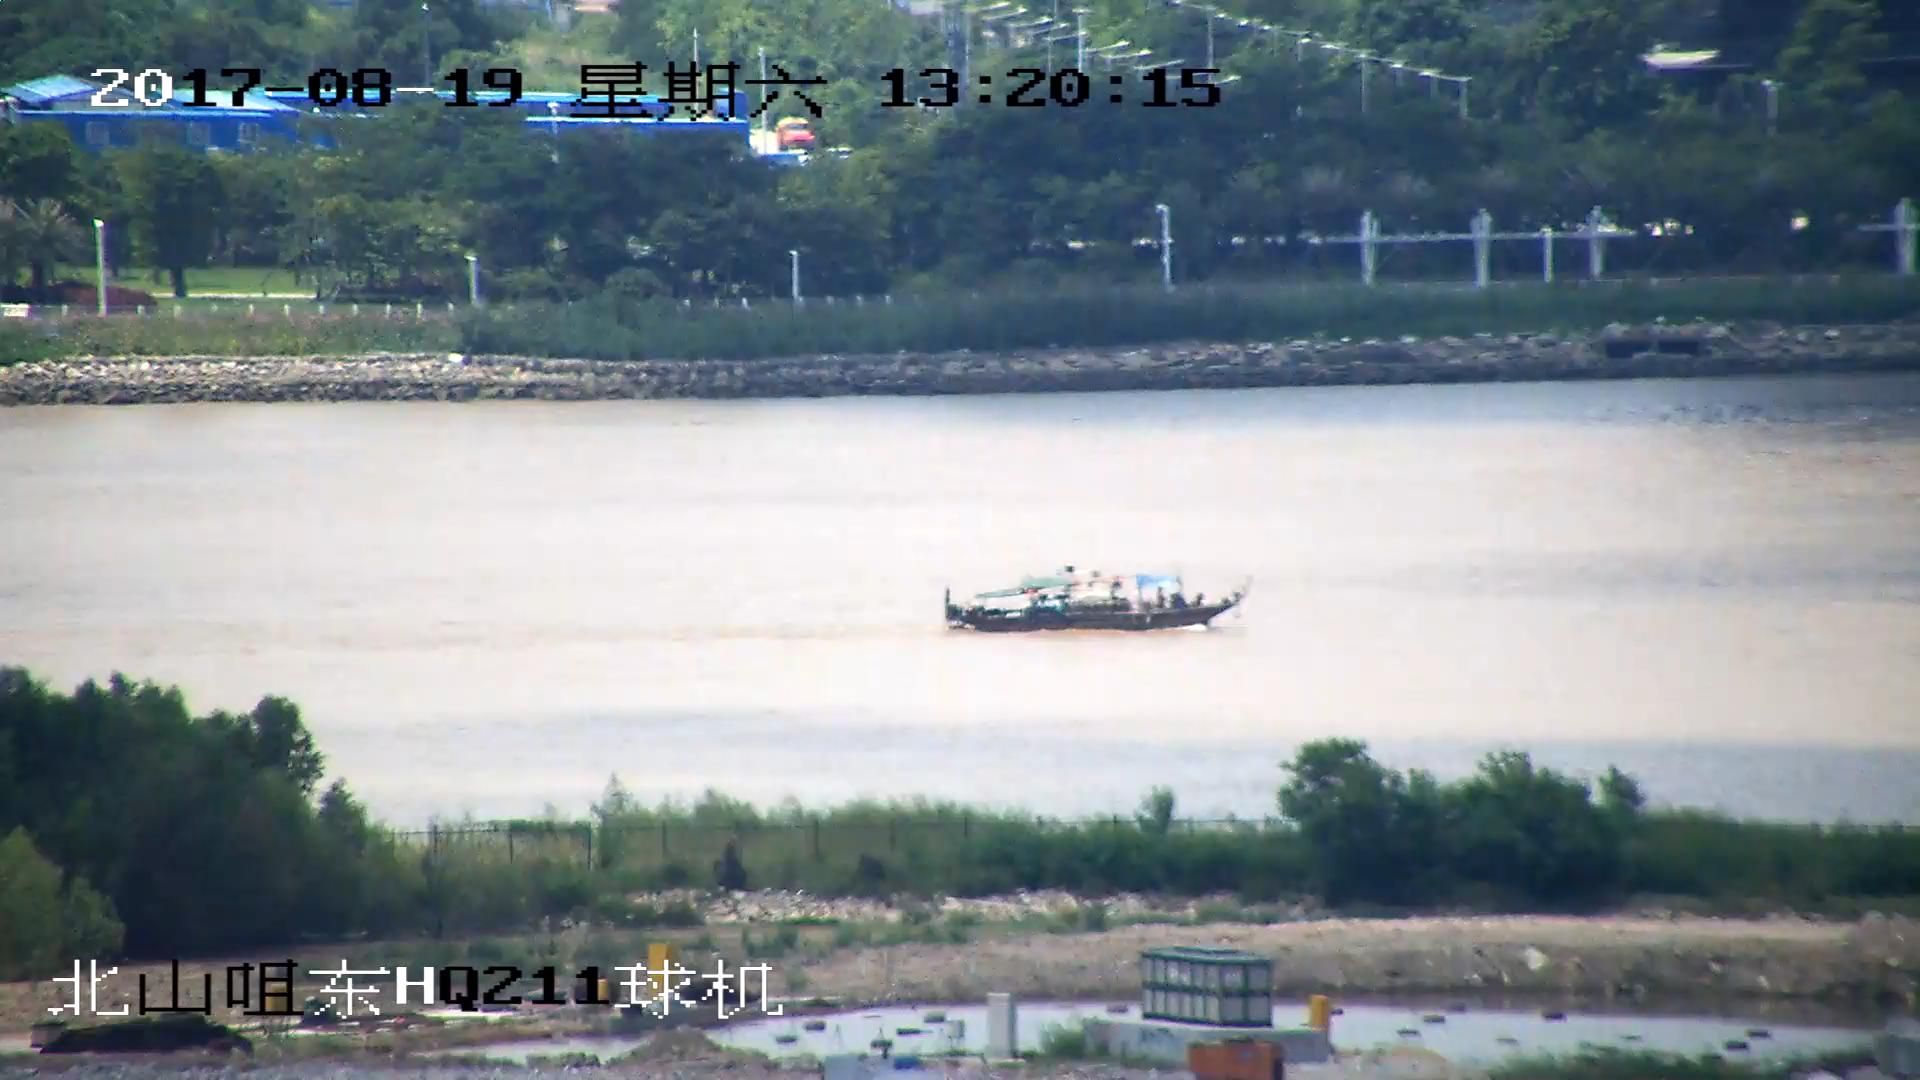fishing boat: (943, 568, 1254, 632)
